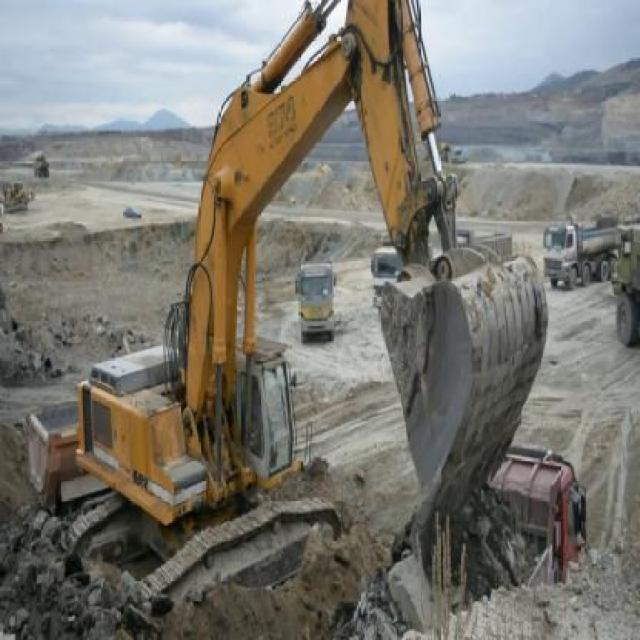Dump Truck: (497, 447, 586, 585), (541, 214, 619, 288), (295, 263, 336, 340)
Excavator: (65, 0, 552, 614)
